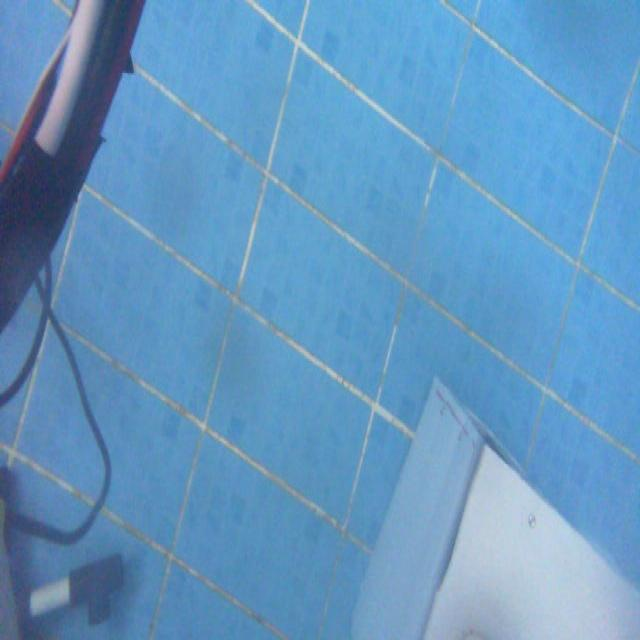Cuboid: (348, 372, 639, 638)
